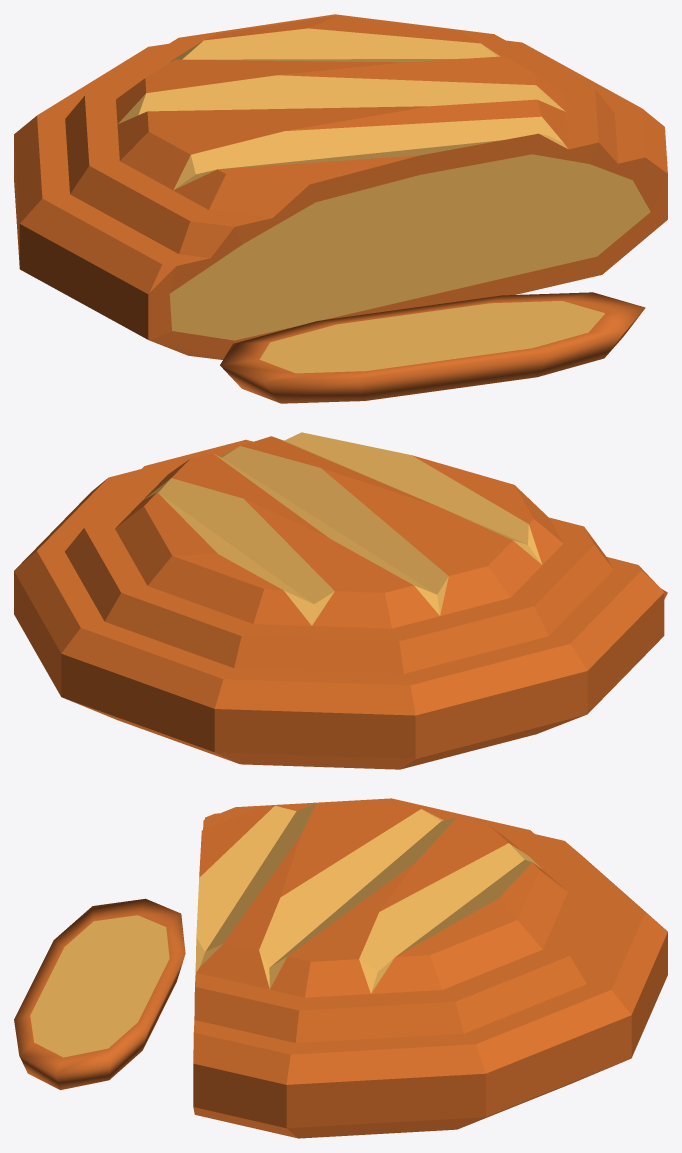
Rendered from sliced _bread_LOW.fbx.
3 renders of one model, top to bottom at view 1: azimuth 30°, elevation 25°; view 2: azimuth 150°, elevation 25°; view 3: azimuth 270°, elevation 25°, orthographic. The views are drawn at different scales.
Parts seen in each view (by area): view 1: bread; view 2: bread; view 3: bread.
Boxes of the visible parts, x1=… form: bread: x1=14, y1=14, x2=667, y2=403; bread: x1=14, y1=432, x2=667, y2=769; bread: x1=14, y1=798, x2=667, y2=1138.
Size of the model in its own units: 41.62 by 11.37 by 42.54.
